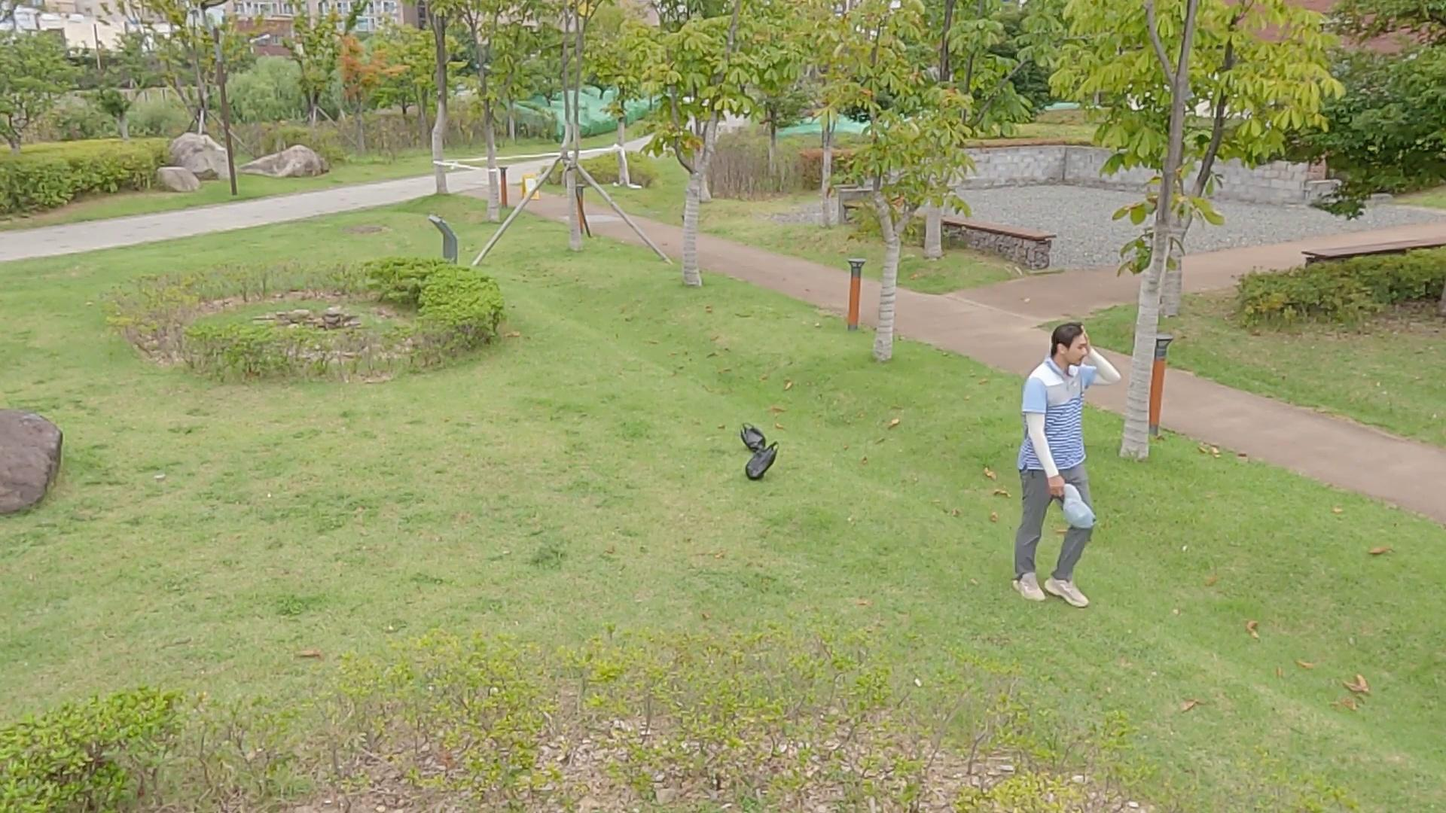person: (1009, 321, 1122, 609)
trash: (740, 437, 781, 486), (737, 420, 772, 457)
